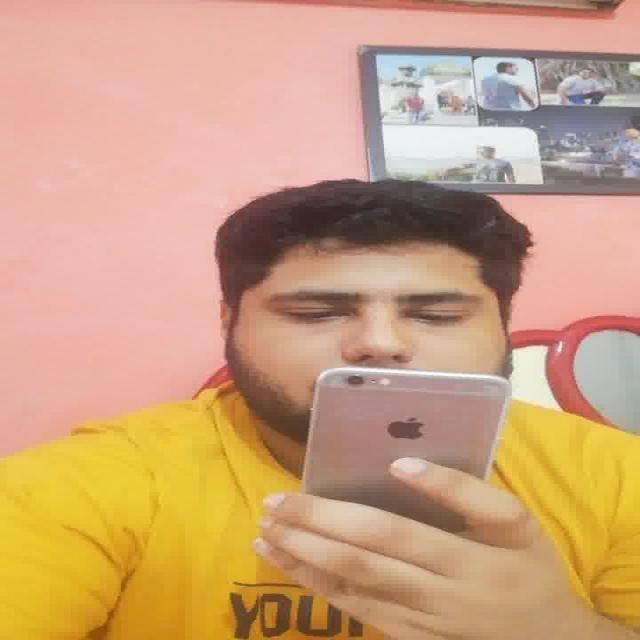Phone: (300, 368, 514, 515)
